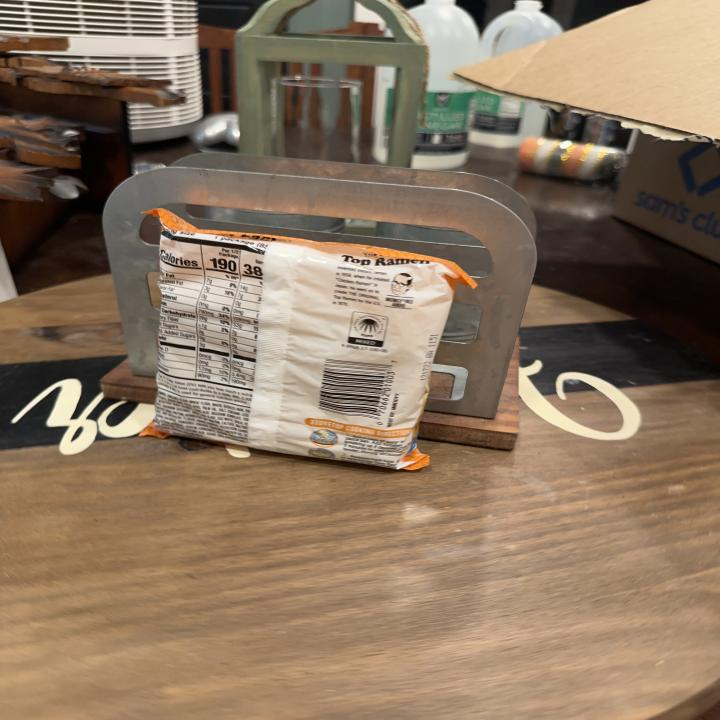Ramen: (137, 204, 478, 474)
